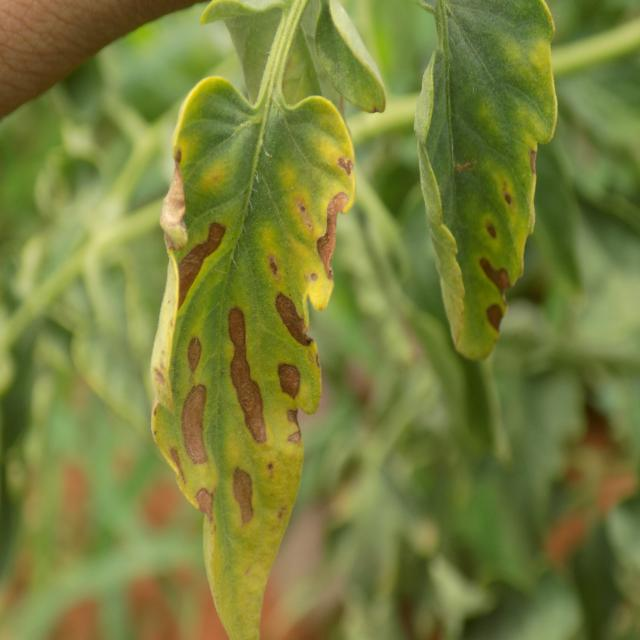tomato_early blight: (143, 73, 357, 640)
